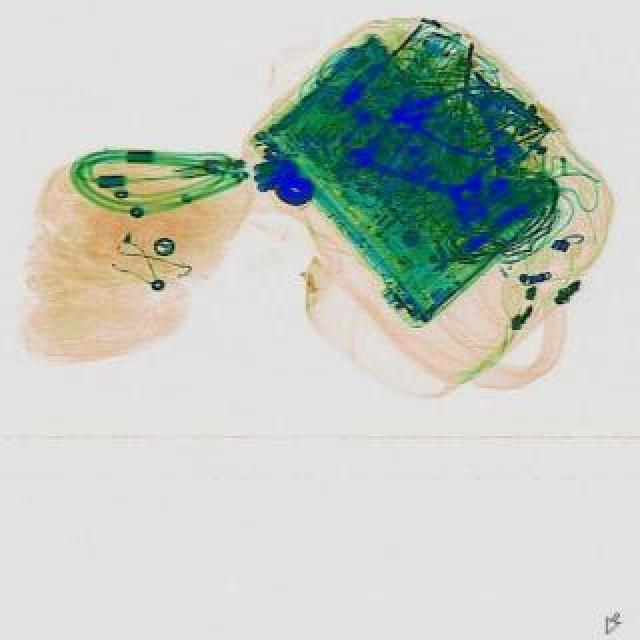scissors: (346, 150, 480, 214), (342, 84, 426, 176)
wrench: (384, 86, 502, 162)
